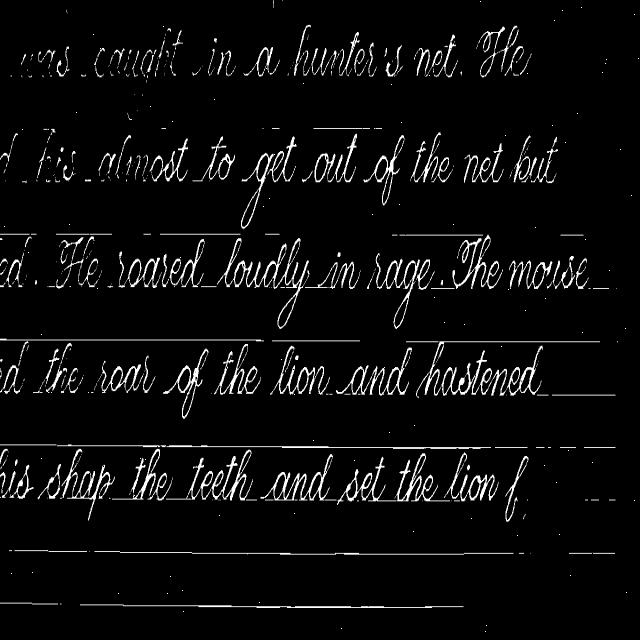noise: (8, 546, 525, 559), (0, 440, 531, 452), (78, 600, 464, 610), (0, 337, 361, 343), (404, 340, 600, 349), (0, 599, 68, 608), (388, 233, 484, 239), (584, 490, 616, 508), (568, 549, 616, 558), (538, 391, 616, 396), (588, 280, 610, 292), (56, 233, 118, 237), (160, 233, 240, 236), (556, 444, 615, 448), (0, 231, 36, 237), (560, 230, 584, 237), (264, 232, 280, 237), (141, 233, 151, 236)
not-noise: (80, 128, 558, 230), (47, 242, 588, 328), (20, 34, 468, 85), (416, 341, 544, 396), (38, 449, 114, 514), (107, 28, 182, 81), (336, 348, 411, 396), (186, 450, 254, 500), (261, 453, 332, 500), (164, 348, 208, 416), (21, 129, 76, 183), (271, 346, 328, 395), (470, 34, 531, 78), (476, 25, 528, 76), (444, 452, 498, 500), (54, 236, 101, 288), (128, 446, 173, 500), (214, 344, 261, 394), (35, 342, 79, 393), (92, 357, 154, 393), (338, 457, 386, 501), (395, 452, 438, 500), (453, 235, 490, 288), (0, 234, 35, 287), (505, 455, 528, 522), (0, 340, 28, 393), (0, 447, 18, 497), (0, 250, 24, 287), (294, 25, 311, 75), (0, 132, 18, 175), (12, 465, 34, 498), (0, 362, 19, 393)
